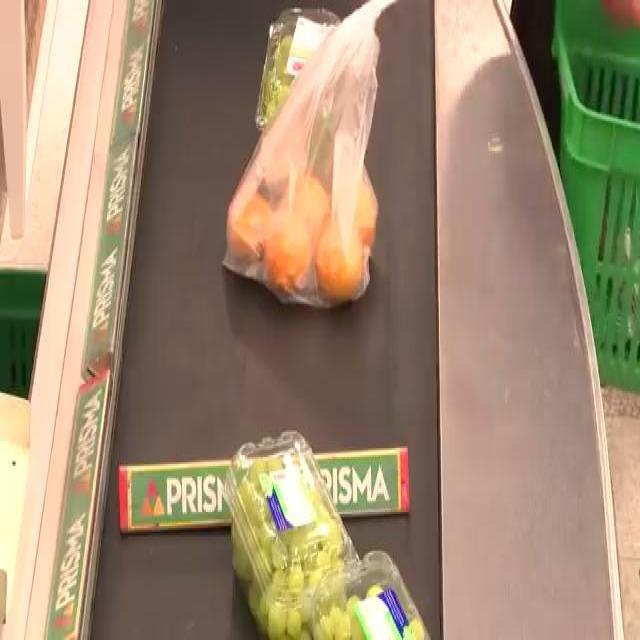fruit: (226, 152, 382, 310), (241, 444, 337, 639), (270, 17, 361, 138), (312, 560, 422, 640)
